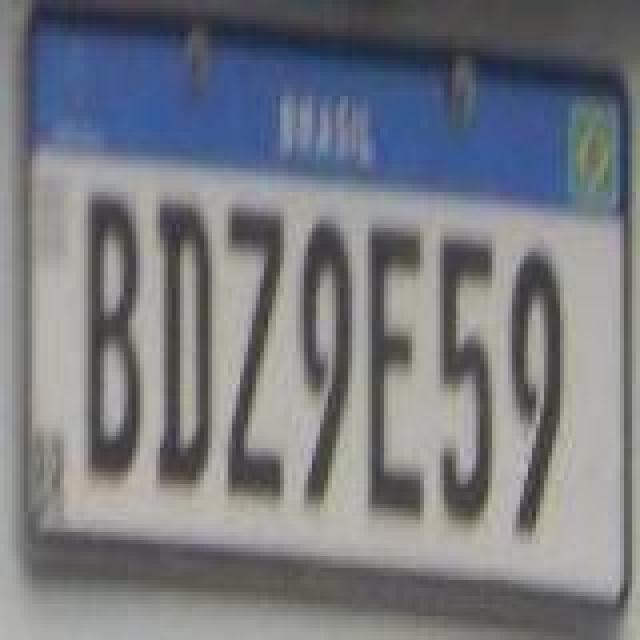5: (436, 228, 492, 524)
9: (508, 244, 564, 540), (300, 216, 356, 504)
B: (82, 188, 142, 484)
D: (154, 198, 214, 490)
E: (366, 226, 426, 526)
Z: (226, 206, 286, 506)
